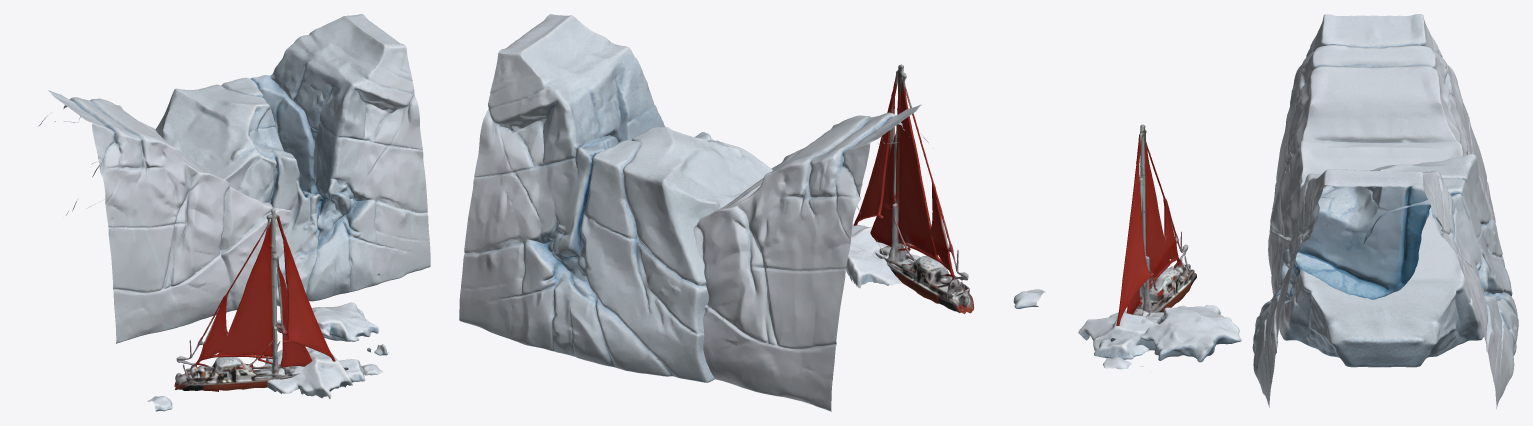
Rendered from iceberg-44fe18d0f587.glb.
3 renders of one model, left to right at view 1: azimuth 30°, elevation 25°; view 2: azimuth 150°, elevation 25°; view 3: azimuth 270°, elevation 25°, orthographic. The views are drawn at different scales.
Parts seen in each view (by area): view 1: TerrainLeft_ice_and_sails, TerrainRight_ice_and_sails, tripo_node_316c8c0b-acff-4e94-9b05-71770dbccf25.001; view 2: TerrainLeft_ice_and_sails, TerrainRight_ice_and_sails, tripo_node_316c8c0b-acff-4e94-9b05-71770dbccf25.001; view 3: TerrainRight_ice_and_sails, TerrainLeft_ice_and_sails, tripo_node_316c8c0b-acff-4e94-9b05-71770dbccf25.001.
Boxes of the visible parts, x1,y1,x2,y2 form: TerrainLeft_ice_and_sails: (155, 14, 430, 398); TerrainRight_ice_and_sails: (38, 90, 378, 382); tripo_node_316c8c0b-acff-4e94-9b05-71770dbccf25.001: (147, 208, 371, 411); TerrainLeft_ice_and_sails: (459, 14, 919, 382); TerrainRight_ice_and_sails: (693, 104, 933, 411); tripo_node_316c8c0b-acff-4e94-9b05-71770dbccf25.001: (853, 64, 1045, 313); TerrainRight_ice_and_sails: (1094, 14, 1495, 367); TerrainLeft_ice_and_sails: (1078, 154, 1518, 408); tripo_node_316c8c0b-acff-4e94-9b05-71770dbccf25.001: (1110, 124, 1196, 341).
Bounding box in the file's own units: 1.14 × 0.7566 × 1.16.
Materials: 1 (1 with a texture image).
